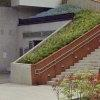stairs: (37, 45, 100, 95)
